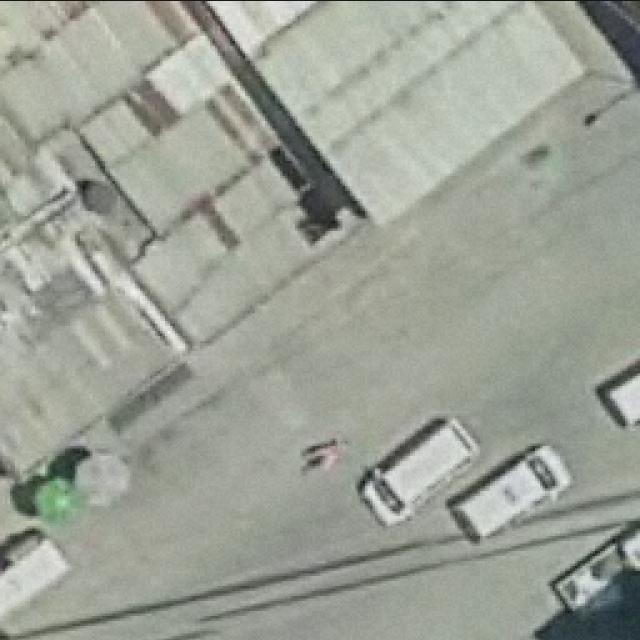vendedor_ambulante: (72, 447, 132, 512), (31, 471, 88, 529)
